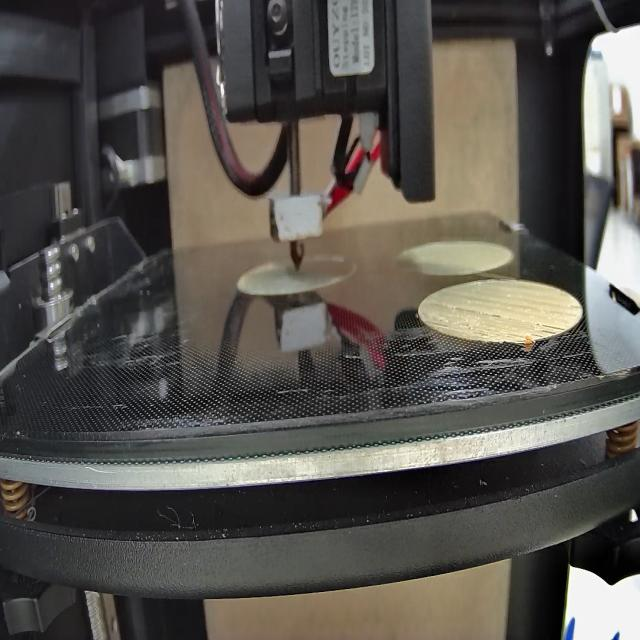under_extrusion: (451, 303, 501, 323), (526, 324, 564, 339), (501, 328, 523, 343), (471, 325, 492, 340), (426, 321, 449, 331), (565, 304, 582, 311)
